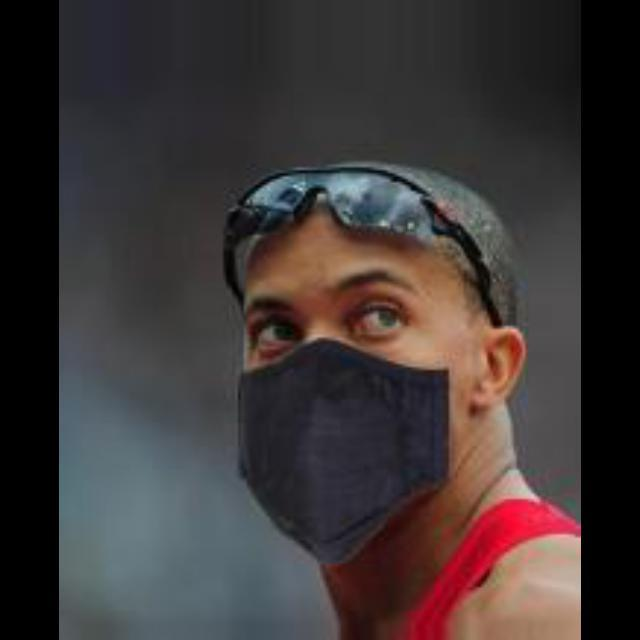suspicion: (170, 165, 544, 540)
